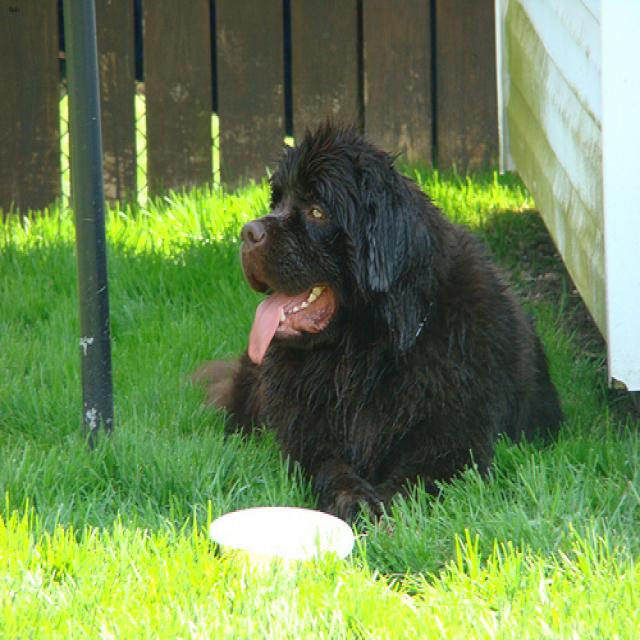dog-newfoundland: (180, 121, 580, 541)
